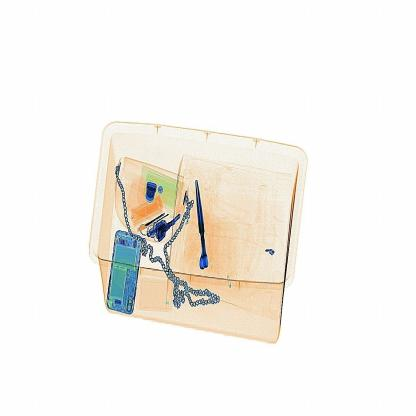gun: (179, 170, 220, 282)
